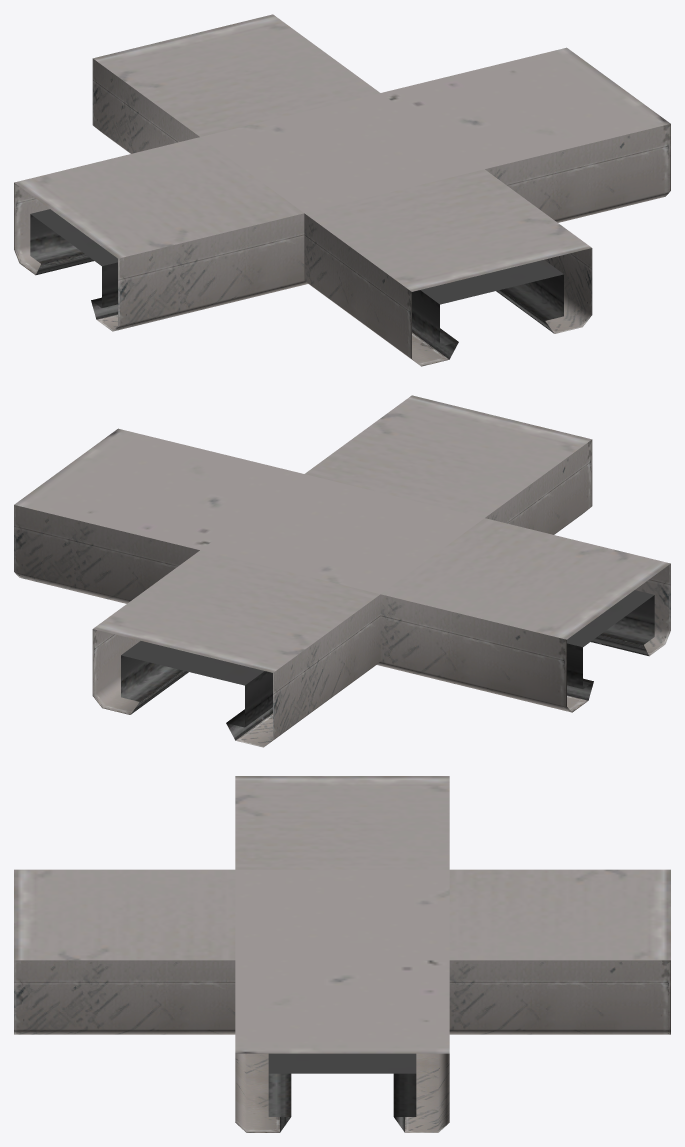
File: 02_05_server_ceiling_grid_small.dae
3 views of the same model, one above another, from view 1: azimuth 30°, elevation 25°; view 2: azimuth 150°, elevation 25°; view 3: azimuth 270°, elevation 25° (orthographic). The views are drawn at different scales.
Visible parts, largest first — view 1: polySurface1; view 2: polySurface1; view 3: polySurface1.
Part boxes in pixels (box(x1,y1,x2,y2)): polySurface1: box(14, 14, 670, 366); polySurface1: box(14, 395, 670, 747); polySurface1: box(14, 776, 670, 1132).
Size of the model in its own units: 1.75 by 0.2327 by 1.75.
